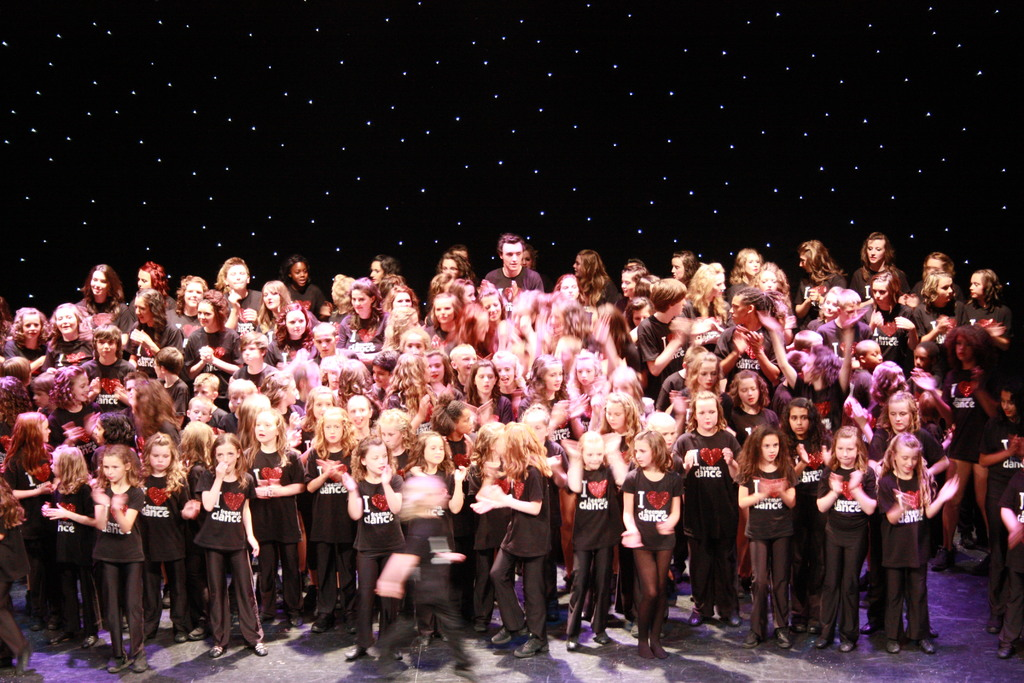Person: (0, 229, 1024, 682)
